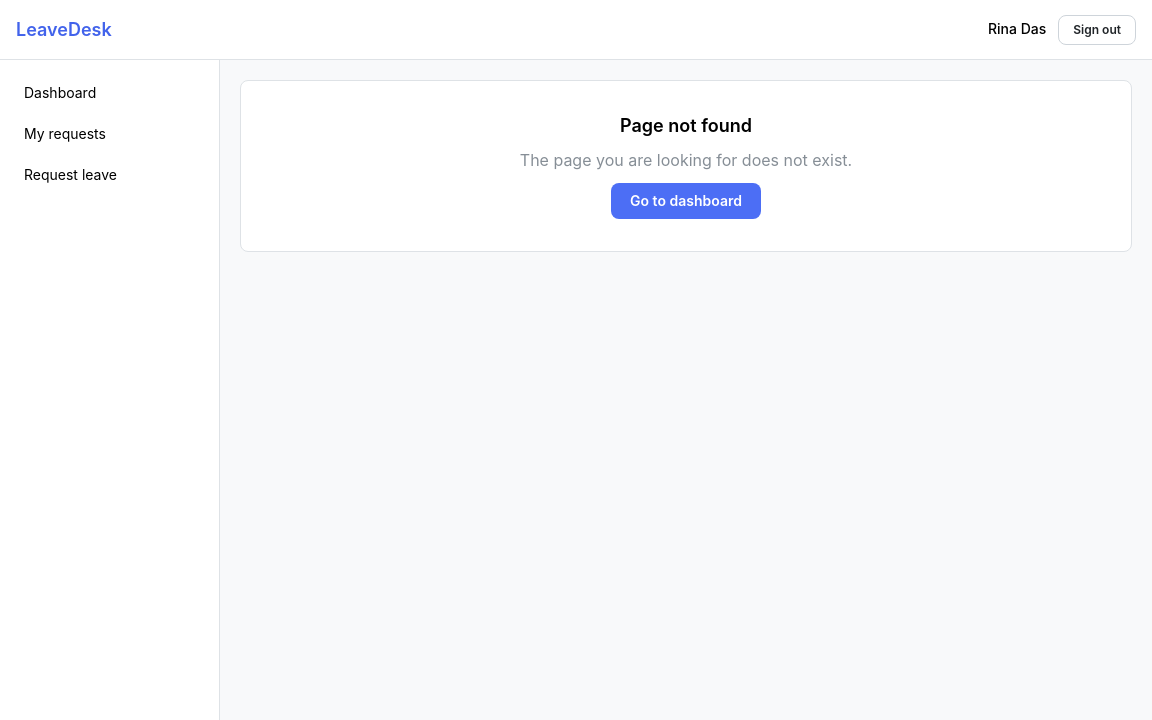
Scenario: App routes › shows a not-found page with a link home for unknown routes
Check: the heading "Page not found" is shown, box x1=620 y1=113 x2=752 y2=138
Click the link "Go to dashboard".
click(686, 201)  # box x1=611 y1=183 x2=761 y2=219
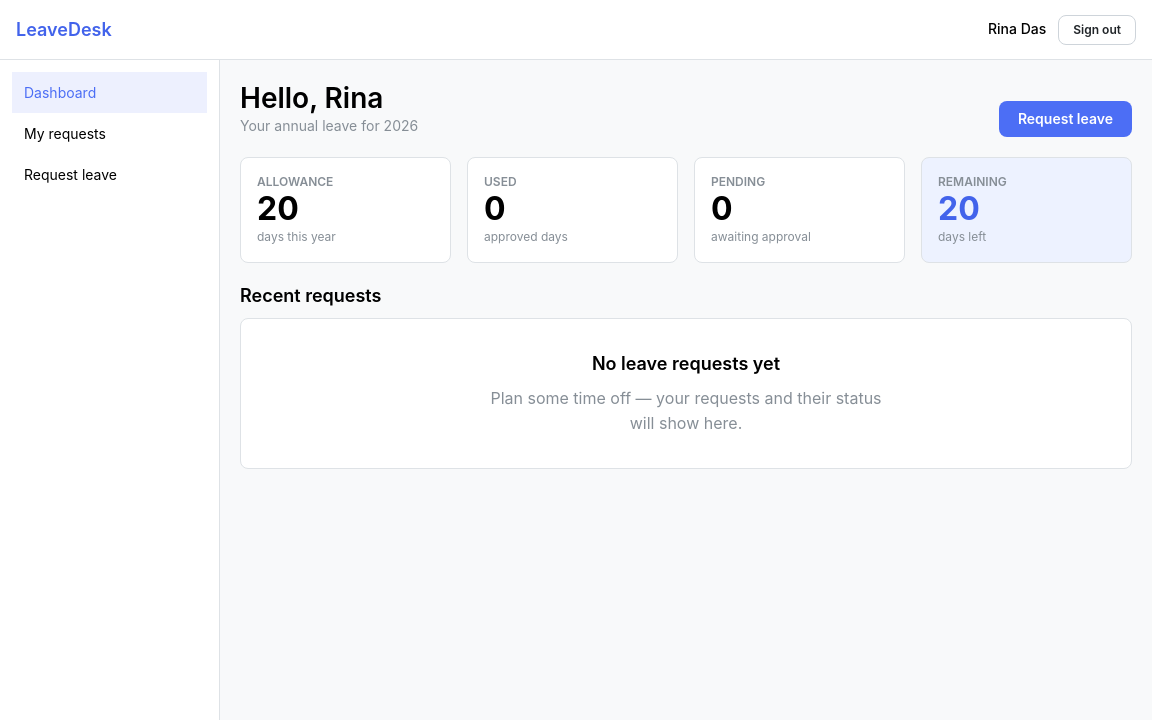
Check: the heading "Hello, Rina" is shown, box x1=240 y1=81 x2=383 y2=115
